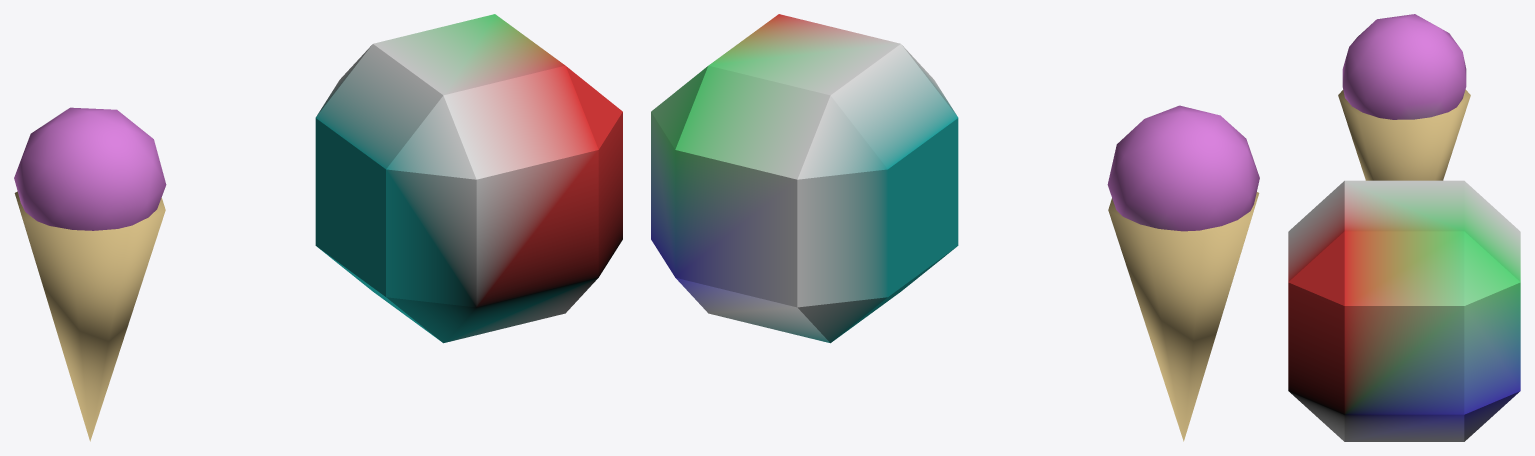
3 renders of one model, left to right at view 1: azimuth 30°, elevation 25°; view 2: azimuth 150°, elevation 25°; view 3: azimuth 270°, elevation 25°, orthographic. The views are drawn at different scales.
Parts seen in each view (by area): view 1: Spheroid, Cone, Icosphere; view 2: Spheroid, Cone, Icosphere; view 3: Spheroid, Icosphere, Cone.
Boxes of the visible parts, left/top/right/bottom form: Spheroid: left=315, top=14, right=622, bottom=343; Cone: left=14, top=191, right=165, bottom=441; Icosphere: left=14, top=107, right=166, bottom=230; Spheroid: left=651, top=14, right=958, bottom=343; Cone: left=1108, top=192, right=1259, bottom=441; Icosphere: left=1107, top=105, right=1259, bottom=231; Spheroid: left=1288, top=180, right=1520, bottom=441; Icosphere: left=1342, top=14, right=1466, bottom=119; Cone: left=1338, top=89, right=1470, bottom=180.
Bounding box in the file's own units: 4.77 × 2.66 × 2.
